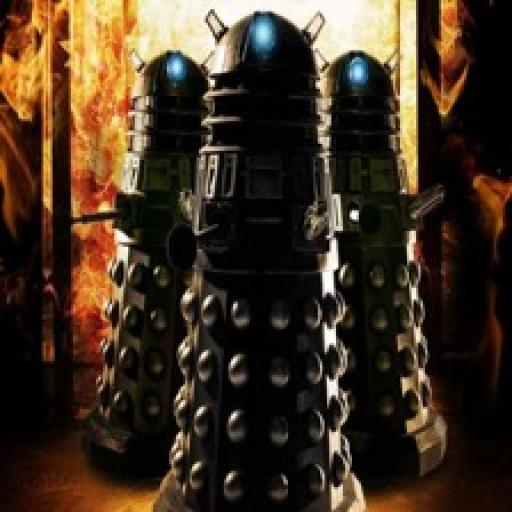dalek: (157, 4, 364, 512), (50, 45, 219, 474), (298, 45, 457, 480)
